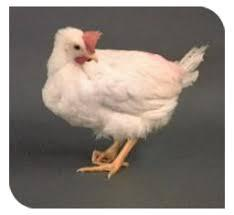AbNormal: (82, 30, 102, 53)
